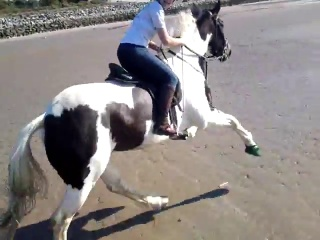person: (127, 2, 240, 149), (110, 0, 199, 140)
